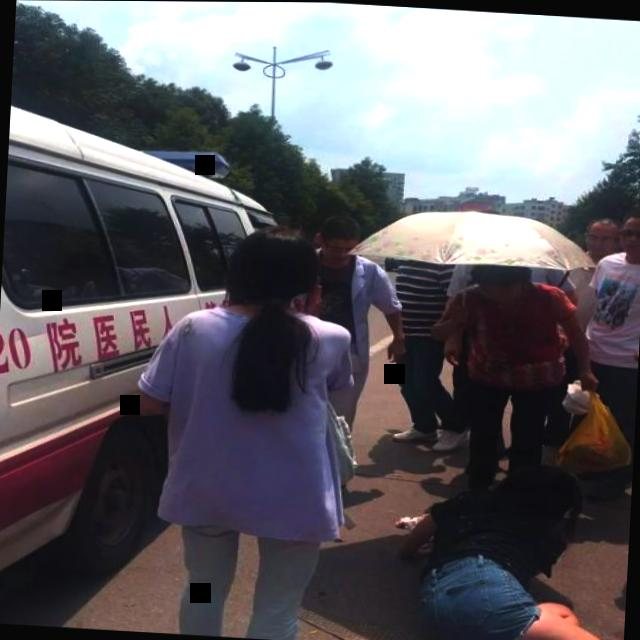Fall-Detected: (374, 448, 632, 640)
